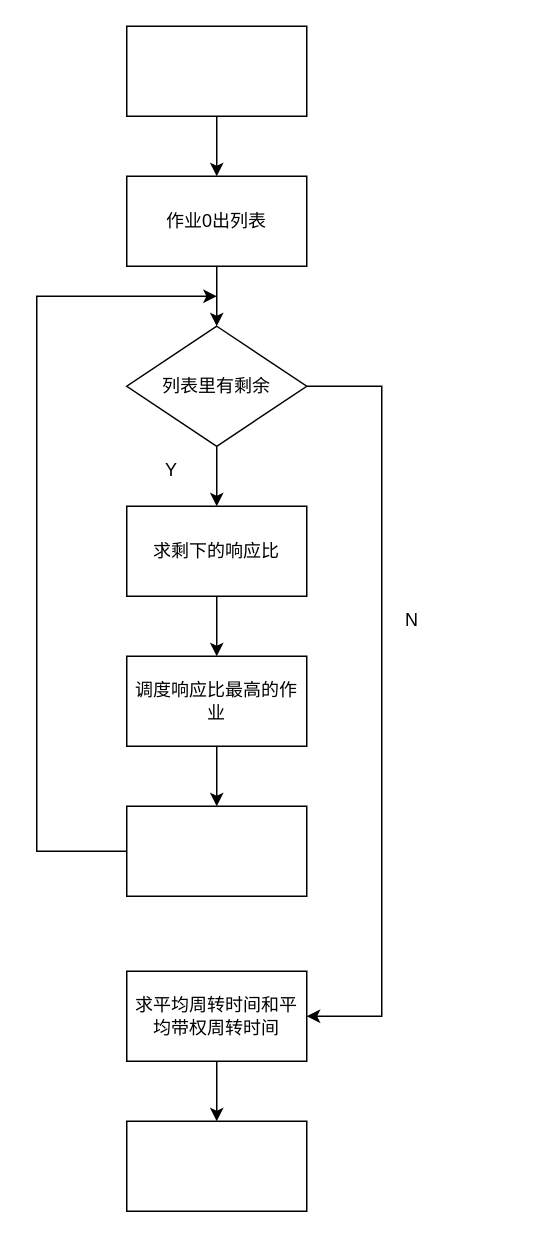
The diagram is 543 pixels wide and 1238 high, and some of its shapes have lost their labels. Here are the shapes that lost their labels. From the top down, the centre of each, then its label:
At pixel 216 70: "作业0调度".
At pixel 216 850: "该作业出列表".
At pixel 216 1165: "结束".
